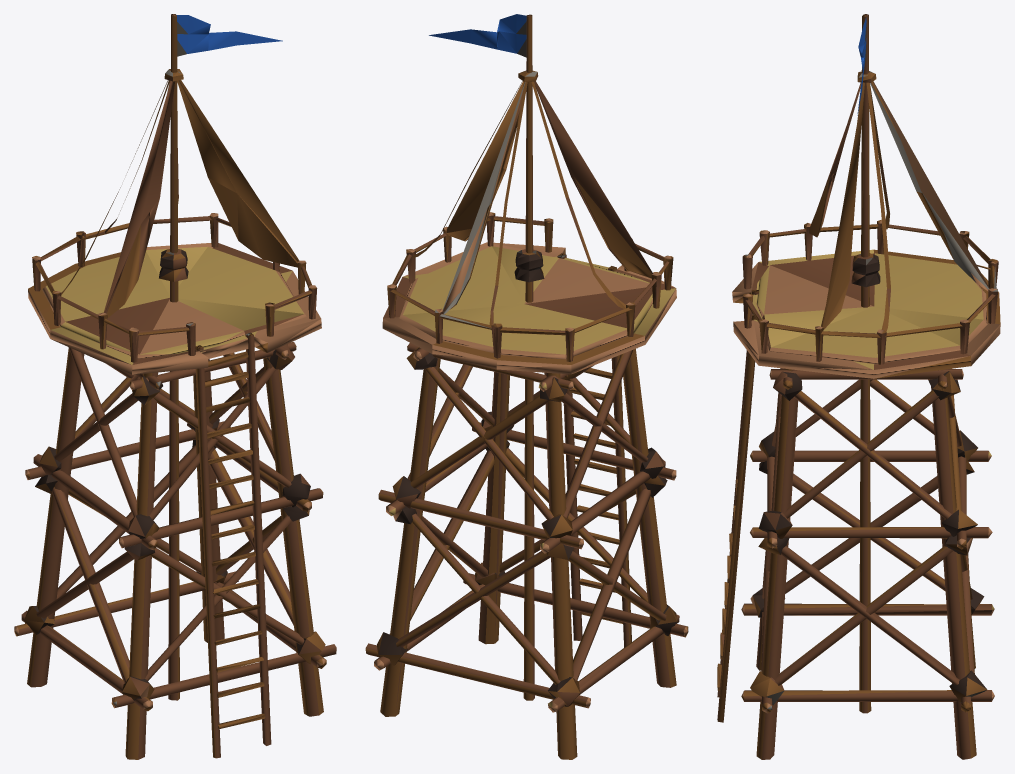
The model's file is building.skyloft.glb.
The picture shows the model from 3 angles, left to right: view 1: azimuth 30°, elevation 25°; view 2: azimuth 150°, elevation 25°; view 3: azimuth 270°, elevation 25°; orthographic projection.
Parts seen in each view (by area): view 1: asset; view 2: asset; view 3: asset.
Boxes of the visible parts, x1,y1,x2,y2 form: asset: (14, 14, 336, 759); asset: (365, 14, 688, 759); asset: (717, 14, 1000, 759).
Size of the model in its own units: 1.26 by 3.4 by 1.25.
